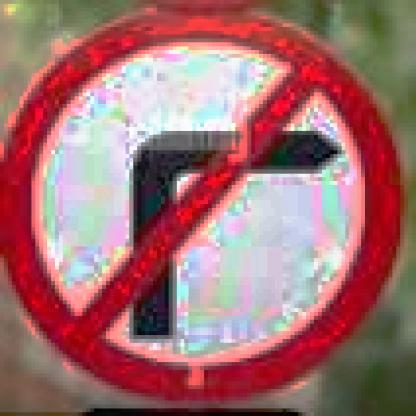No right turn: (4, 1, 410, 406)
